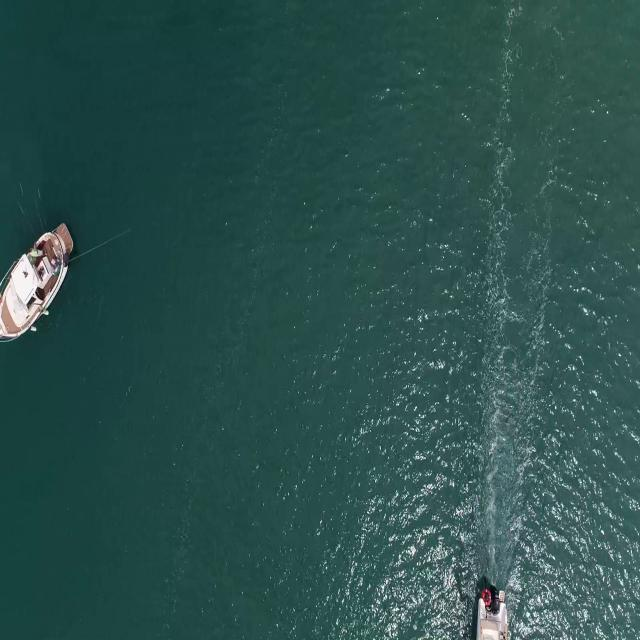boat: (1, 220, 73, 342), (472, 601, 512, 640)
life_buoy: (481, 586, 492, 605)
person: (28, 247, 45, 260), (50, 258, 62, 274)
